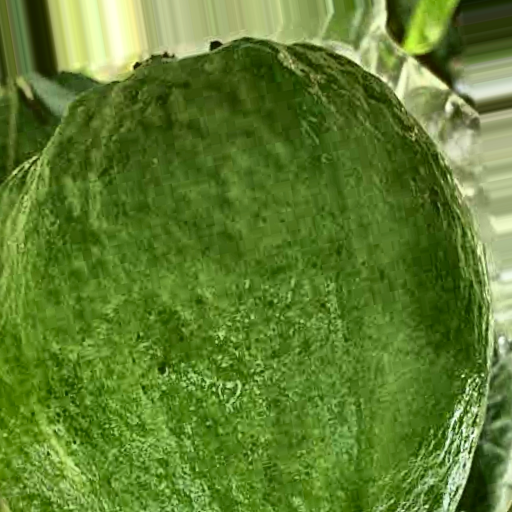guava: (98, 10, 500, 422)
